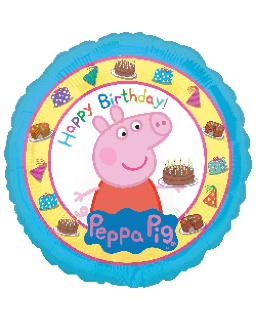Peppa: (76, 106, 175, 217)
